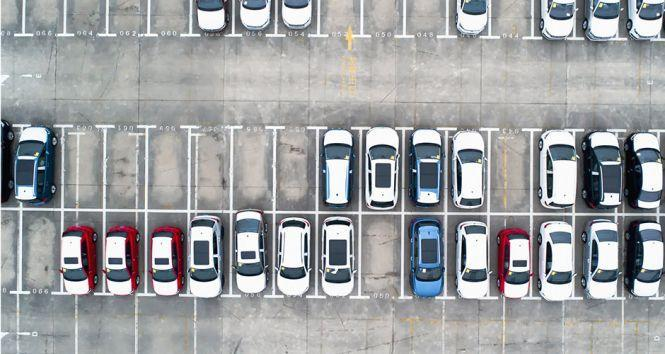occupied: (317, 128, 361, 213), (402, 213, 446, 298), (573, 130, 617, 214), (445, 214, 489, 298), (146, 210, 189, 295), (231, 212, 274, 297), (274, 212, 317, 297), (403, 129, 446, 214), (446, 129, 489, 214), (616, 130, 659, 215), (317, 213, 360, 297), (360, 129, 403, 213), (531, 130, 574, 214), (573, 215, 616, 299), (21, 125, 63, 210), (189, 211, 231, 296), (531, 214, 573, 299), (62, 210, 104, 294), (104, 210, 146, 294), (489, 214, 531, 298), (616, 215, 658, 298), (614, 0, 665, 43), (572, 0, 621, 42), (445, 0, 494, 40), (273, 0, 322, 39), (530, 0, 577, 40), (188, 0, 237, 38), (231, 0, 280, 38)
vacant: (274, 127, 318, 212), (232, 127, 275, 212), (360, 213, 403, 298), (19, 209, 62, 293), (104, 126, 147, 210), (146, 127, 189, 211), (189, 127, 232, 211), (489, 130, 532, 214), (63, 126, 105, 210), (486, 0, 537, 40), (402, 0, 452, 39), (360, 0, 408, 39), (63, 0, 111, 38), (145, 0, 194, 37), (317, 0, 364, 38), (21, 0, 68, 37), (106, 0, 152, 37)
